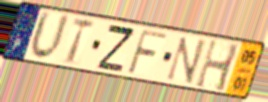F: (124, 28, 169, 77)
H: (192, 37, 242, 95)
N: (163, 35, 208, 86)
T: (65, 16, 97, 66)
U: (27, 9, 72, 63)
Z: (95, 23, 137, 74)
